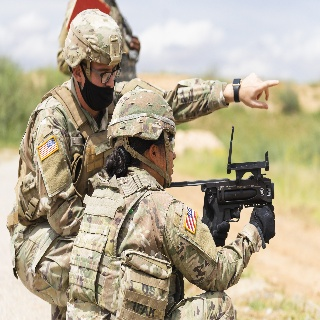rifle: (168, 125, 277, 246)
